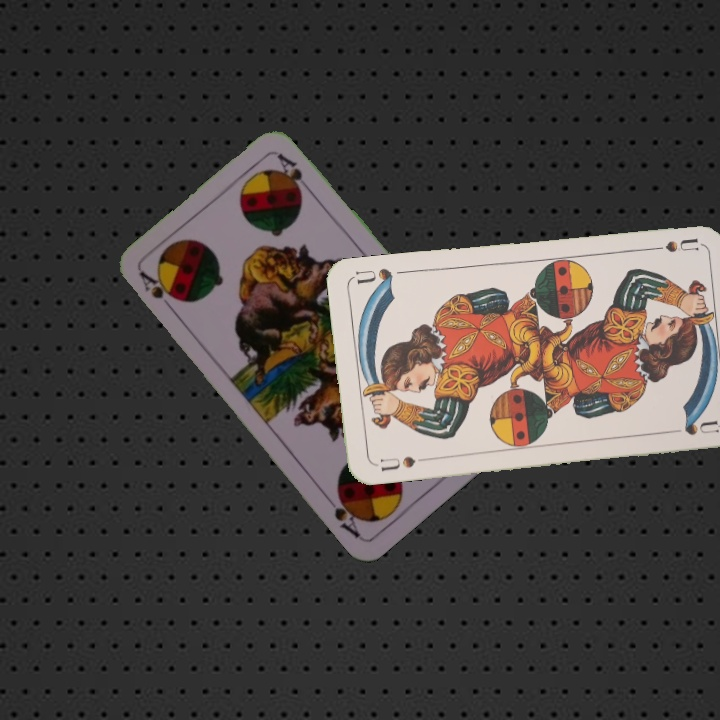SA: (135, 267, 179, 317)
SU: (370, 452, 429, 474), (639, 235, 699, 255)
